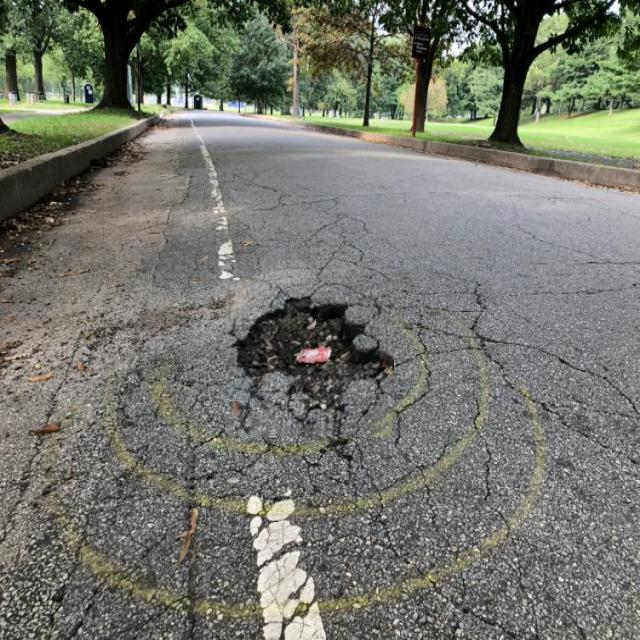Pothole: (226, 283, 394, 438)
